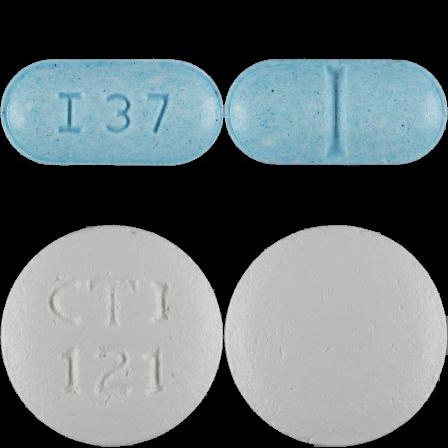68788-9216: (0, 0, 224, 224)
